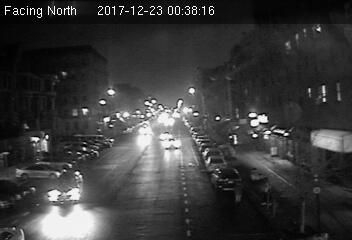car: (45, 169, 85, 204), (211, 165, 243, 190), (163, 138, 180, 149)
